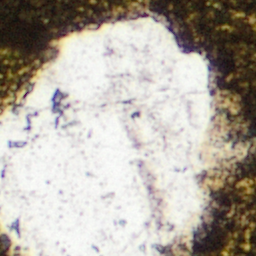cement_matrix: (0, 0, 255, 255), (52, 91, 65, 114), (0, 235, 11, 255)
gravel_crushed_stones: (0, 13, 249, 255), (51, 90, 66, 115)
